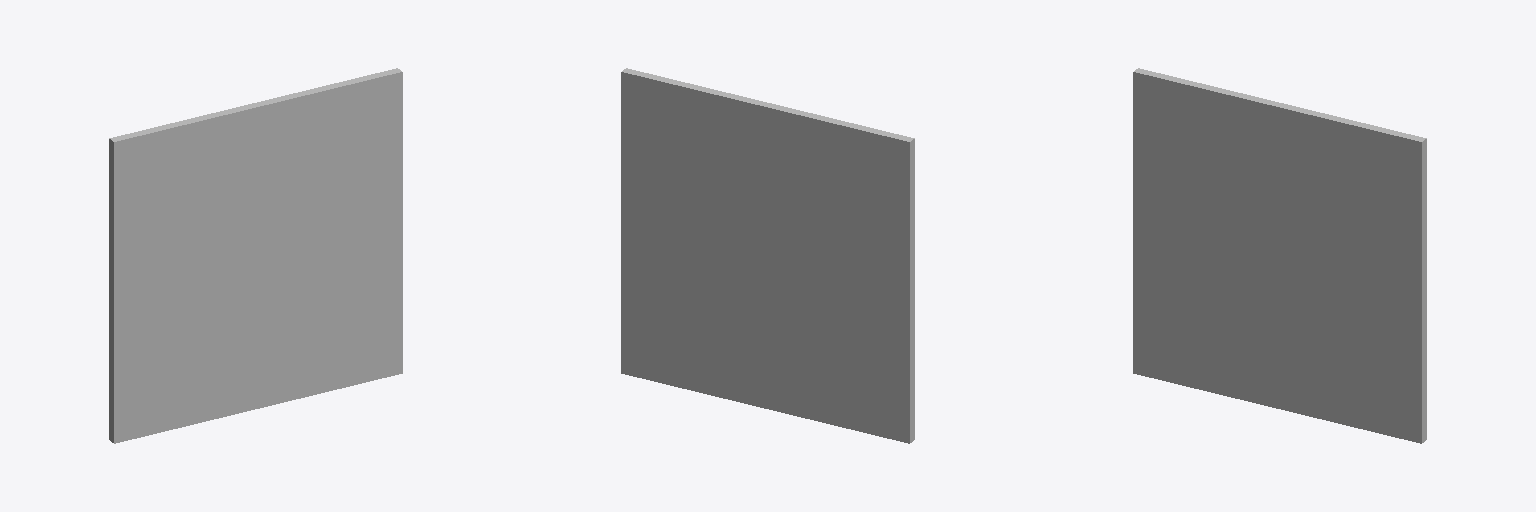
Rendered from target.obj.
3 renders of one model, left to right at view 1: azimuth 30°, elevation 25°; view 2: azimuth 150°, elevation 25°; view 3: azimuth 330°, elevation 25°, orthographic.
Visible parts, largest first — view 1: object 1; view 2: object 1; view 3: object 1.
Part boxes in pixels (x1,y1,x2,y2): object 1: (109,68,402,443); object 1: (621,68,914,443); object 1: (1133,68,1426,443).
Size of the model in its own units: 3.3 by 3.3 by 0.1.